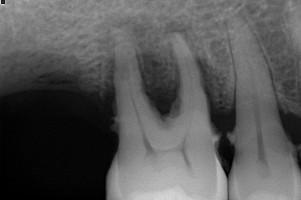Dental Caries: (96, 11, 232, 118)
